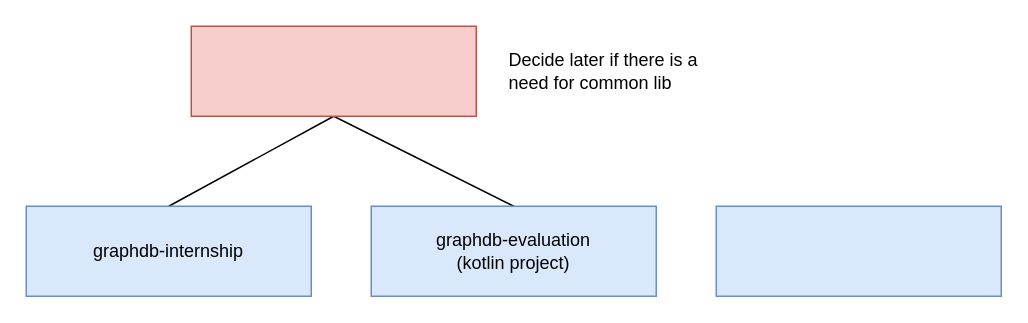
This 1028x323 diagram has some shape labels left out. The shapes that lost their labels are listed below. From the top down, each one's box as (x1, y1, x2, y2) in pixels, then its label:
(190, 25, 476, 116): graphdb-common-lib
(715, 205, 1001, 296): graphdb-frontend
